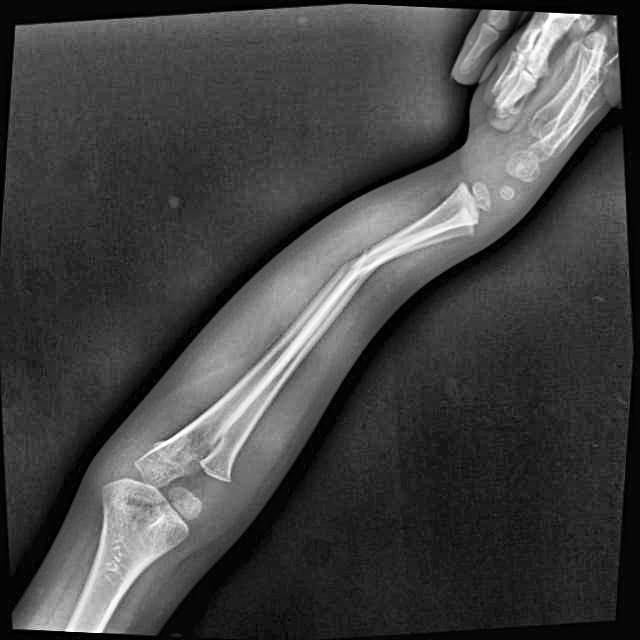Spiral: (327, 237, 380, 308)
